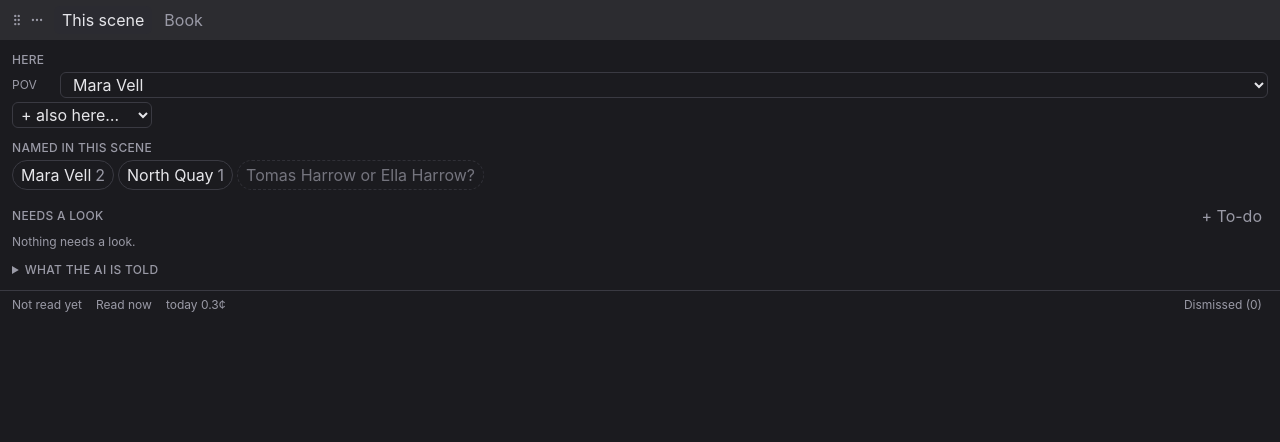
Test: ThisScenePanel (F-16.12) › shows Here, the named chips with why, a dimmed ambiguous span, and today’s reading spend
Check: the element with test id "named-chips" is shown, box [12,160,484,190]
Check: the dropdown labelled "POV" shows "Mara Vell", box [60,72,1268,98]
Click the button "Mara Vell 2" at (63, 175), box [12,160,114,190]
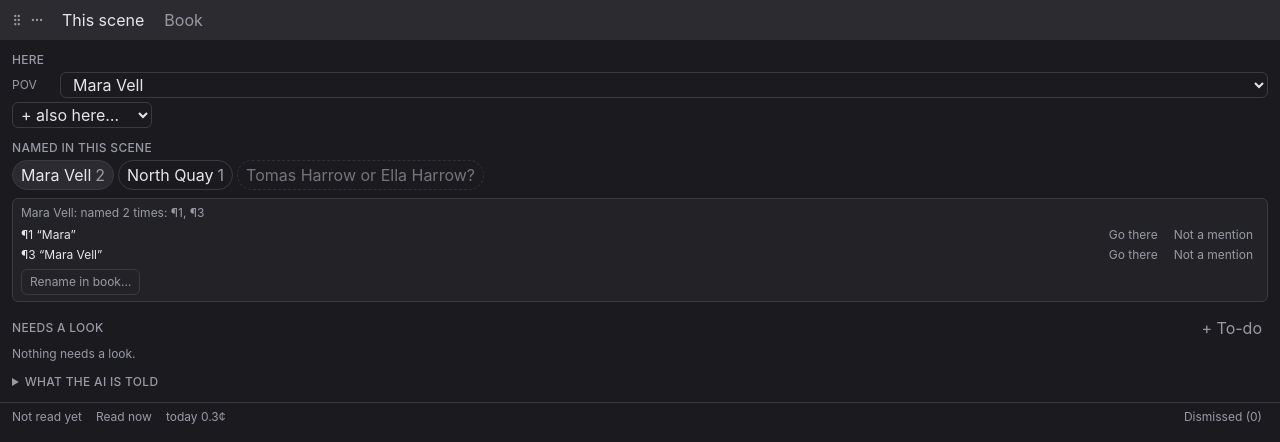
Check: the text with test id "this-scene-spend" reads "today 0.3¢", box [166,409,226,425]
Check: the number of buttons "Go there" is 2, box [1103,225,1164,245]; [1103,245,1164,265]
